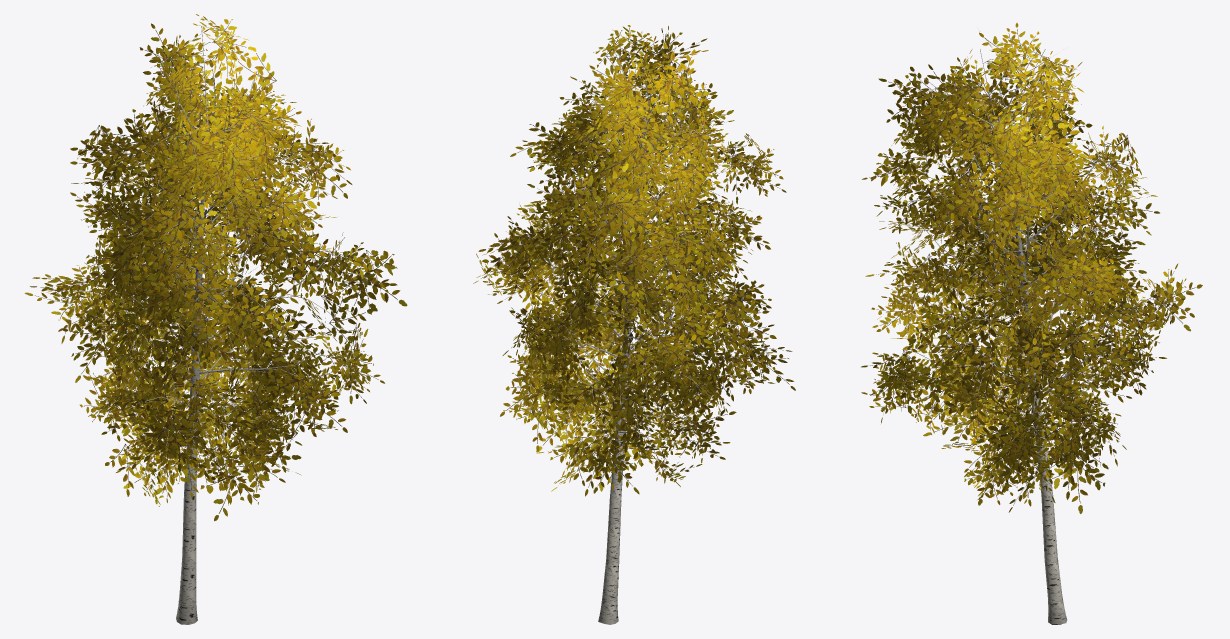
Rendered from tree_birchAutumn.glb.
3 views of the same model, side by side, from view 1: azimuth 30°, elevation 25°; view 2: azimuth 150°, elevation 25°; view 3: azimuth 270°, elevation 25° (orthographic). The views are drawn at different scales.
Visible parts, largest first — view 1: plant; view 2: plant; view 3: plant.
Boxes of the visible parts, x1,y1,x2,y2 form: plant: (24,14,407,624); plant: (473,25,795,624); plant: (861,23,1202,624).
Bounding box in the file's own units: 8.13 × 15.43 × 8.64.
2 materials, 2 textured.
